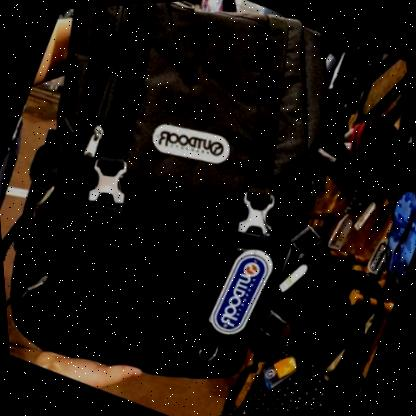bag: (0, 0, 360, 388)
